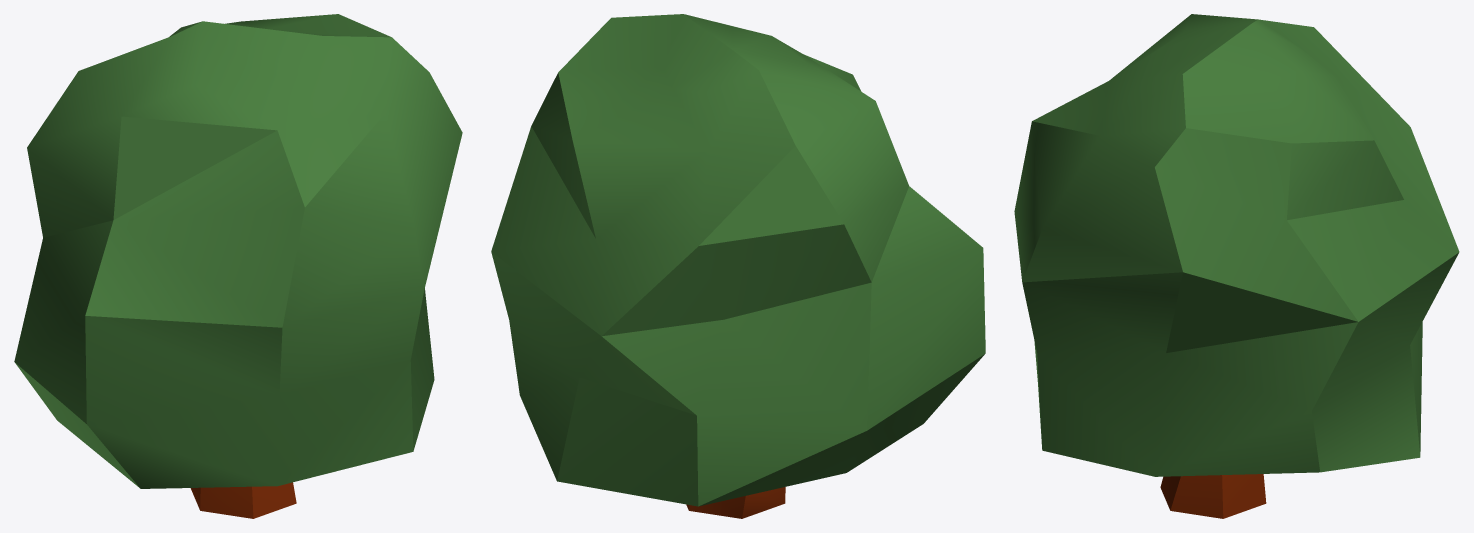
File: bush2.fbx
3 views of the same model, side by side, from view 1: azimuth 30°, elevation 25°; view 2: azimuth 150°, elevation 25°; view 3: azimuth 270°, elevation 25° (orthographic).
Parts seen in each view (by area): view 1: Leaves, Trunk; view 2: Leaves, Trunk; view 3: Leaves, Trunk.
Boxes of the visible parts, box(x1,y1,x2,y2) form: Leaves: box(14, 14, 462, 488); Trunk: box(190, 482, 296, 518); Leaves: box(491, 14, 985, 506); Trunk: box(686, 487, 785, 518); Leaves: box(1014, 14, 1459, 476); Trunk: box(1160, 474, 1266, 518).
Size of the model in its own units: 0.8612 by 0.9348 by 0.8156.
